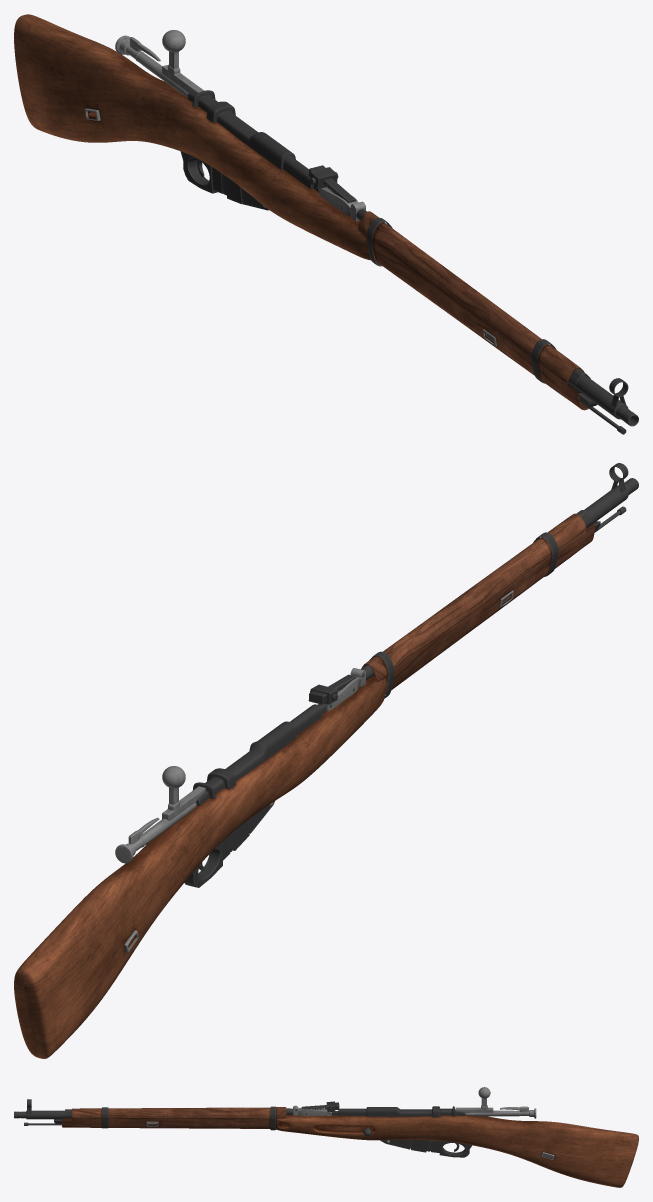
The model's file is mosin-rifle.glb.
3 renders of one model, top to bottom at view 1: azimuth 30°, elevation 25°; view 2: azimuth 150°, elevation 25°; view 3: azimuth 270°, elevation 25°, orthographic. The views are drawn at different scales.
Parts seen in each view (by area): view 1: Priklad-osnova, High Corob, Low Corob, Cylinder.003, Cube.002, Pricel, Cylinder.004, Sphere, Cylinder.001, Black opletka, Cube; view 2: Priklad-osnova, High Corob, Low Corob, Cylinder.003, Cube.002, Cylinder.004, Sphere, Pricel; view 3: Priklad-osnova, High Corob, Low Corob, Cylinder.003, Cube.002, Cylinder.004, Pricel, Sphere, Black opletka, Cube, Cylinder.001.
Boxes of the visible parts, x1,y1,x2,y2 form: Priklad-osnova: [14, 14, 376, 261]; High Corob: [358, 211, 590, 384]; Low Corob: [372, 241, 588, 410]; Cylinder.003: [187, 90, 318, 191]; Cube.002: [180, 151, 269, 210]; Pricel: [567, 374, 638, 426]; Cylinder.004: [115, 35, 188, 96]; Sphere: [162, 30, 204, 94]; Cylinder.001: [309, 165, 356, 202]; Black opletka: [366, 217, 556, 383]; Cube: [318, 187, 365, 221]; Priklad-osnova: [14, 675, 387, 1058]; High Corob: [361, 510, 591, 681]; Low Corob: [385, 523, 595, 694]; Cylinder.003: [192, 704, 326, 805]; Cube.002: [184, 801, 274, 887]; Cylinder.004: [115, 802, 196, 863]; Sphere: [162, 766, 205, 820]; Pricel: [584, 478, 638, 528]; Priklad-osnova: [276, 1114, 638, 1187]; High Corob: [65, 1107, 286, 1118]; Low Corob: [62, 1117, 270, 1128]; Cylinder.003: [332, 1106, 464, 1117]; Cube.002: [380, 1140, 472, 1157]; Cylinder.004: [464, 1106, 536, 1118]; Pricel: [14, 1110, 72, 1119]; Sphere: [455, 1087, 493, 1112]; Black opletka: [101, 1106, 275, 1130]; Cube: [293, 1105, 331, 1115]; Cylinder.001: [302, 1101, 339, 1112].
Size of the model in its own units: 0.0868 by 0.2727 by 1.56.
Materials: 2 (2 with a texture image).
